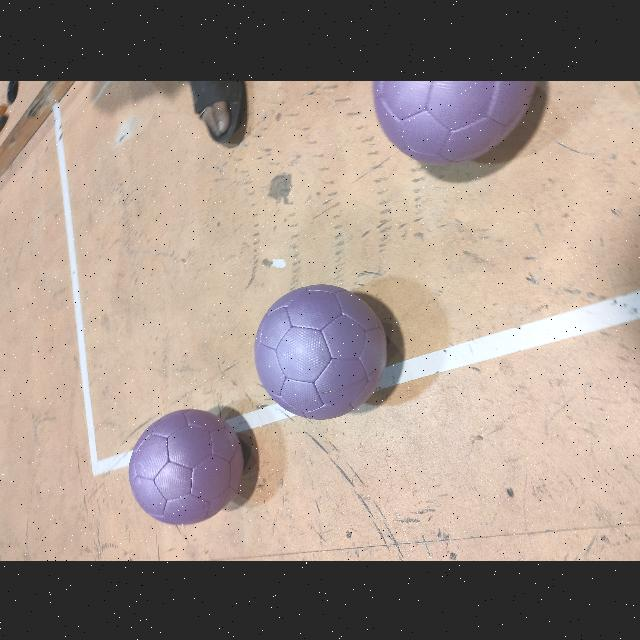P: (254, 284, 386, 418), (372, 80, 536, 162), (129, 408, 243, 524)
